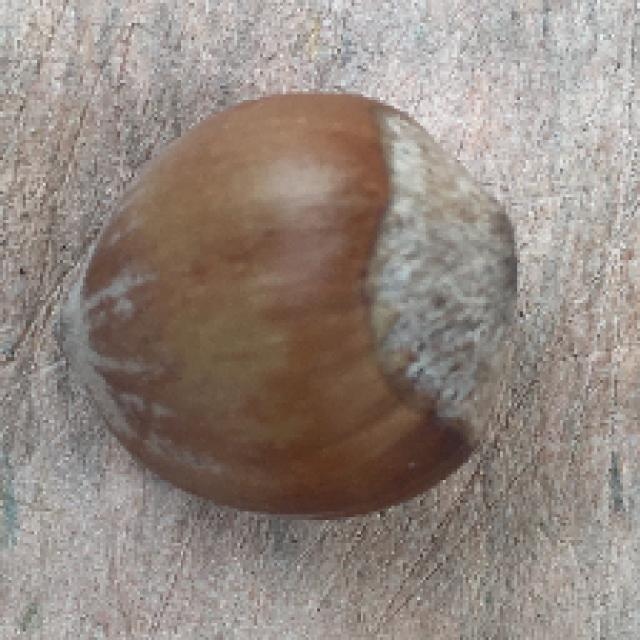damagedHazelnut: (54, 90, 524, 513)
